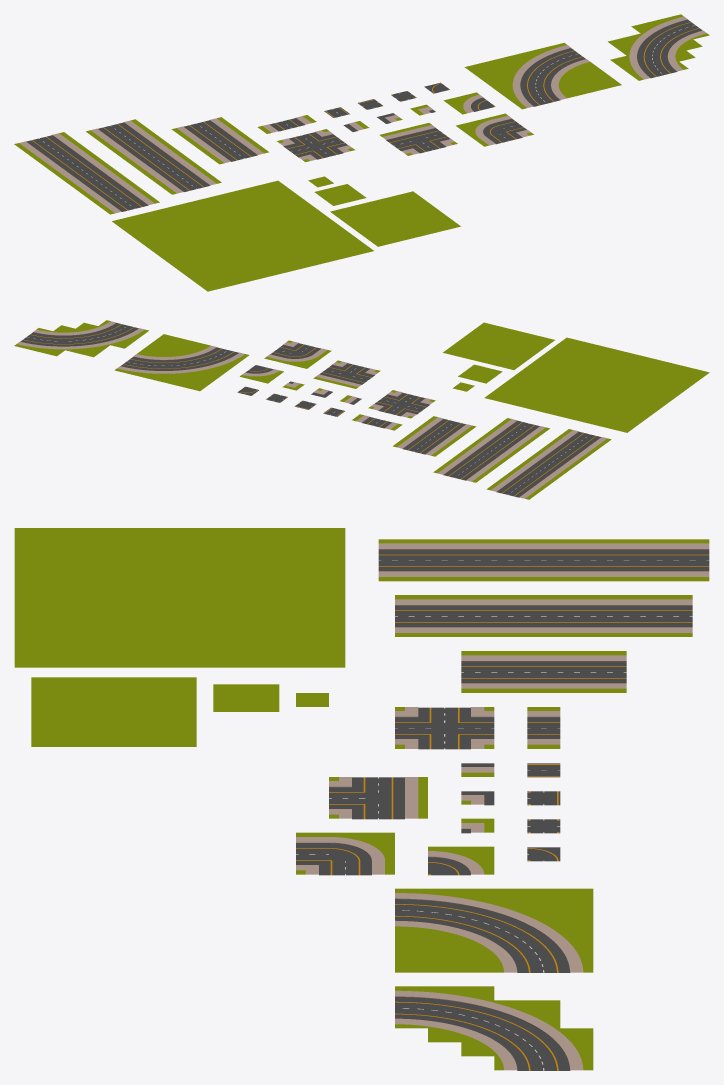
File: Road Tileset.glb
3 views of the same model, one above another, from view 1: azimuth 30°, elevation 25°; view 2: azimuth 150°, elevation 25°; view 3: azimuth 270°, elevation 25° (orthographic). The views are drawn at different scales.
Parts seen in each view (by area): view 1: Grass 100, Curve, Straight Road Strip Long Even, Straight Road Strip Long, Curve Jigsaw, Grass 50, Straight Road Strip Mid, Three Way Junction Prebuilt, Sharp Corner Prebuilt, Four Way Junction Prebuilt, Sharp Corner with Sidewalk, Grass 20 (+1 smaller); view 2: Grass 100, Curve, Straight Road Strip Long Even, Straight Road Strip Long, Curve Jigsaw, Grass 50, Straight Road Strip Mid, Four Way Junction Prebuilt, Three Way Junction Prebuilt, Sharp Corner Prebuilt, Grass 20, Sharp Corner with Sidewalk (+1 smaller); view 3: Grass 100, Curve, Straight Road Strip Long Even, Straight Road Strip Long, Curve Jigsaw, Grass 50, Straight Road Strip Mid, Sharp Corner Prebuilt, Four Way Junction Prebuilt, Three Way Junction Prebuilt, Sharp Corner with Sidewalk, Grass 20 (+1 smaller).
Part boxes in pixels (left/top/right/bottom): Grass 100: left=112, top=180, right=373, bottom=291; Curve: left=464, top=42, right=621, bottom=109; Straight Road Strip Long Even: left=14, top=132, right=159, bottom=214; Straight Road Strip Long: left=86, top=119, right=221, bottom=194; Curve Jigsaw: left=608, top=14, right=709, bottom=80; Grass 50: left=330, top=191, right=460, bottom=246; Straight Road Strip Mid: left=171, top=117, right=268, bottom=164; Three Way Junction Prebuilt: left=380, top=123, right=457, bottom=155; Sharp Corner Prebuilt: left=456, top=113, right=533, bottom=146; Four Way Junction Prebuilt: left=277, top=129, right=354, bottom=162; Sharp Corner with Sidewalk: left=443, top=92, right=495, bottom=114; Grass 20: left=314, top=184, right=366, bottom=205; Grass 100: left=484, top=337, right=709, bottom=432; Curve: left=114, top=334, right=249, bottom=391; Straight Road Strip Long Even: left=486, top=429, right=611, bottom=499; Straight Road Strip Long: left=433, top=418, right=549, bottom=482; Curve Jigsaw: left=14, top=320, right=148, bottom=357; Grass 50: left=443, top=322, right=554, bottom=369; Straight Road Strip Mid: left=393, top=416, right=476, bottom=456; Four Way Junction Prebuilt: left=368, top=390, right=435, bottom=418; Three Way Junction Prebuilt: left=313, top=360, right=380, bottom=388; Sharp Corner Prebuilt: left=264, top=340, right=331, bottom=368; Grass 20: left=458, top=364, right=502, bottom=383; Sharp Corner with Sidewalk: left=240, top=365, right=283, bottom=383; Grass 100: left=14, top=528, right=345, bottom=667; Curve: left=395, top=888, right=593, bottom=972; Straight Road Strip Long Even: left=378, top=539, right=709, bottom=581; Straight Road Strip Long: left=395, top=595, right=692, bottom=636; Curve Jigsaw: left=395, top=986, right=593, bottom=1070; Grass 50: left=31, top=677, right=196, bottom=746; Straight Road Strip Mid: left=461, top=651, right=626, bottom=692; Sharp Corner Prebuilt: left=296, top=832, right=394, bottom=875; Four Way Junction Prebuilt: left=395, top=707, right=494, bottom=749; Three Way Junction Prebuilt: left=329, top=777, right=427, bottom=819; Sharp Corner with Sidewalk: left=428, top=846, right=494, bottom=875; Grass 20: left=213, top=684, right=279, bottom=711.
Size of the model in its own units: 385 by 1.6 by 210.
1 material, 1 textured.
